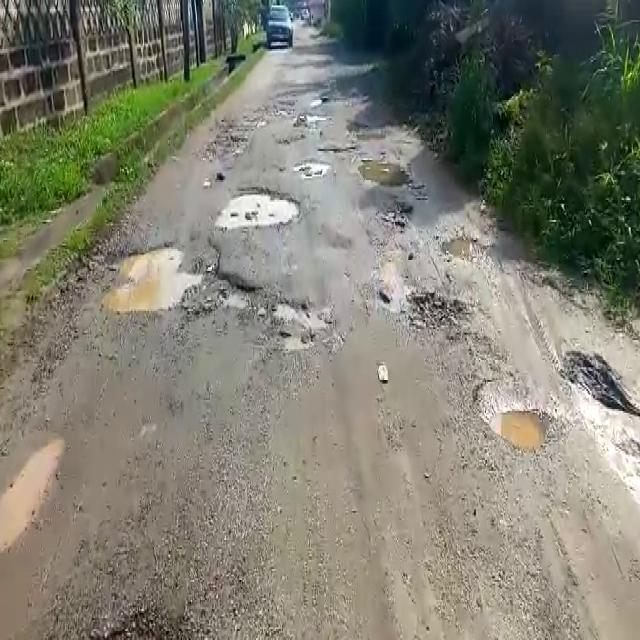pothole: (93, 237, 257, 316), (0, 438, 67, 554), (471, 378, 556, 453), (559, 350, 640, 418), (216, 186, 305, 232), (273, 301, 341, 355), (404, 288, 471, 334), (440, 233, 492, 264), (358, 159, 411, 187), (295, 158, 332, 176), (316, 141, 358, 154)
